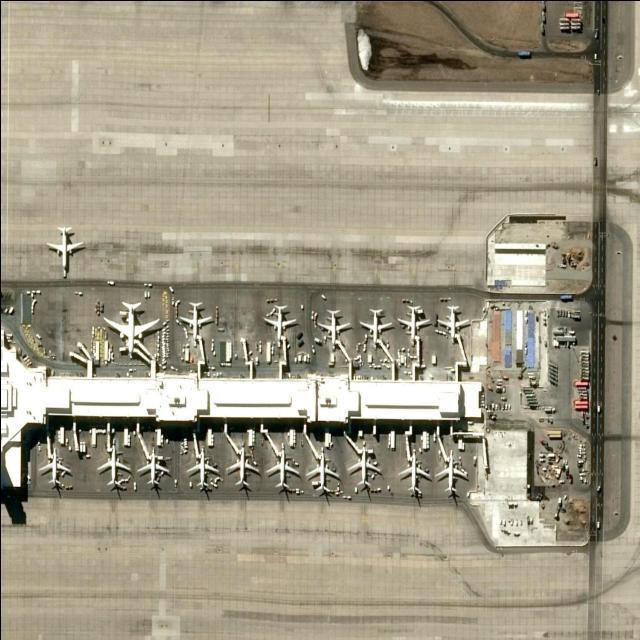Aircraft: (102, 300, 160, 362), (46, 224, 89, 278), (265, 446, 302, 494), (346, 445, 382, 493), (397, 448, 431, 496), (305, 450, 339, 498), (179, 299, 213, 344), (397, 304, 433, 346), (434, 451, 468, 495), (185, 446, 219, 490), (226, 446, 259, 491), (39, 447, 73, 489), (136, 447, 171, 487), (97, 445, 130, 487), (357, 308, 393, 346), (432, 305, 470, 341), (263, 301, 296, 342), (317, 307, 351, 346)
